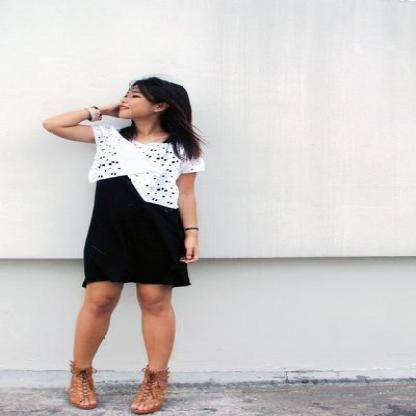shirt: (91, 126, 187, 208)
shoe: (66, 366, 170, 414)
skirt: (82, 175, 194, 287)
